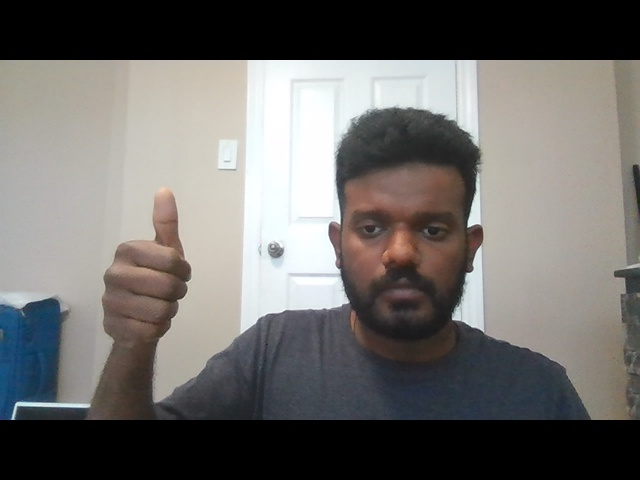yes: (97, 181, 193, 355)
